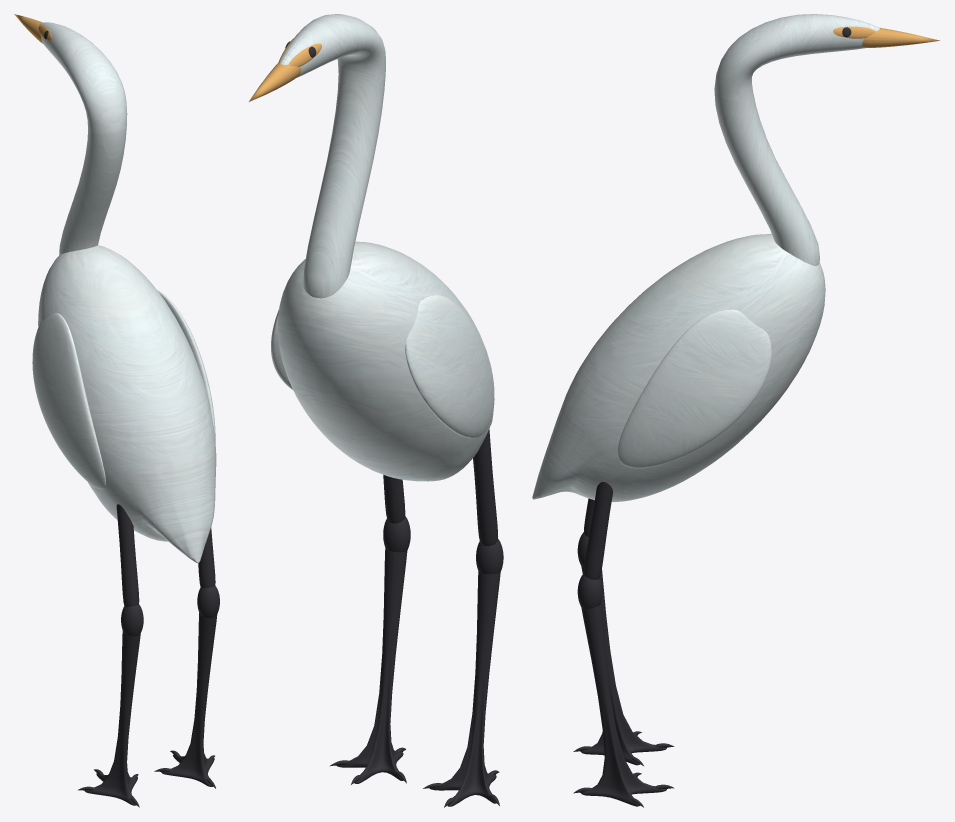
File: garza.fbx
The picture shows the model from 3 angles, left to right: view 1: azimuth 30°, elevation 25°; view 2: azimuth 150°, elevation 25°; view 3: azimuth 270°, elevation 25°; orthographic projection. The views are drawn at different scales.
Parts seen in each view (by area): view 1: garza; view 2: garza; view 3: garza.
Boxes of the visible parts, x1,y1,x2,y2 form: garza: (14,14,219,807); garza: (249,14,503,807); garza: (532,14,939,807).
Bounding box in the file's own units: 26.77 × 124 × 60.31.
Materials: 3 (3 with a texture image).
